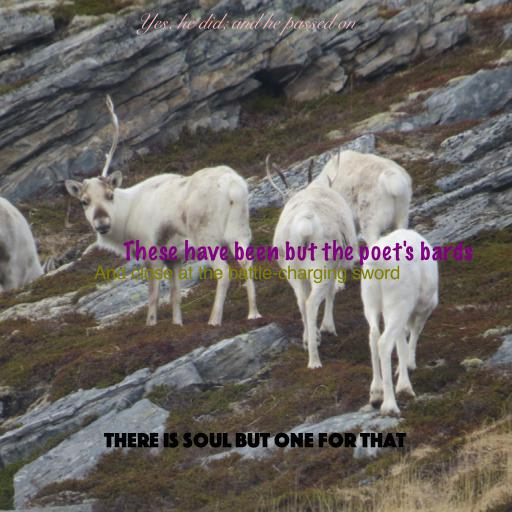Marker Felt: (123, 239, 473, 266)
Phosphate: (104, 432, 406, 448)
SignPainter: (94, 265, 400, 284)
Snell Roundhand: (136, 13, 356, 36)
